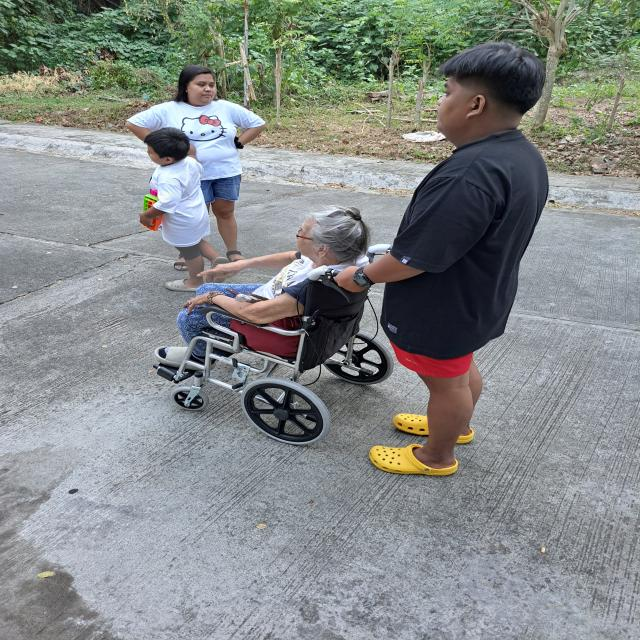wheelchairs: (151, 238, 397, 455)
